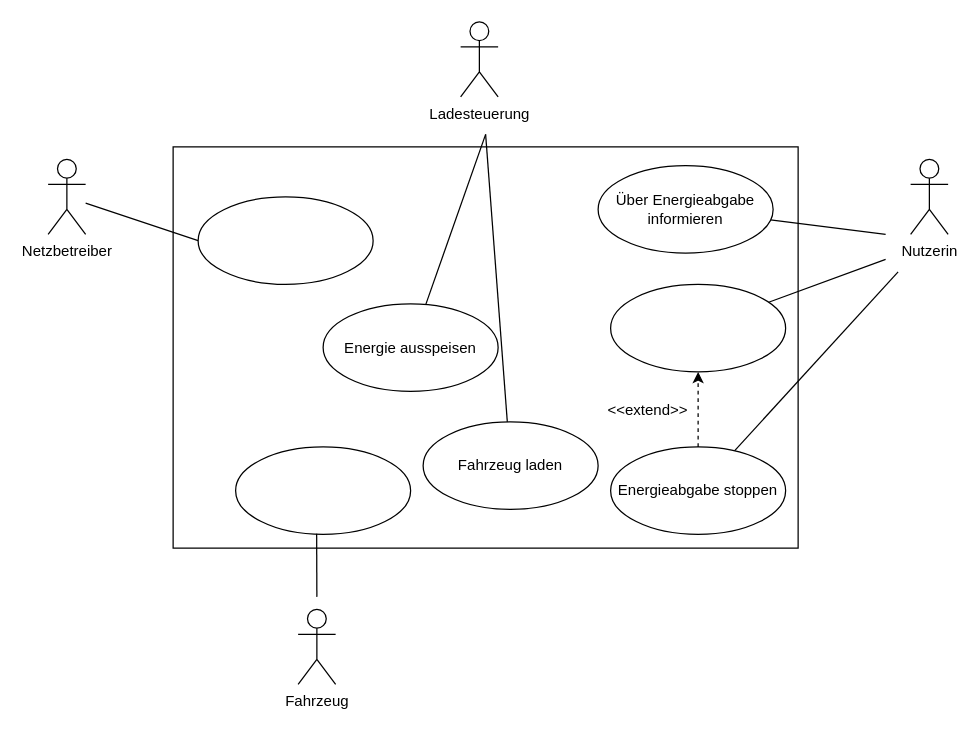
This 979x733 diagram has some shape labels left out. Each missing label, with the centre of its shape:
"Energie anfordern" goes at point (285, 240).
"Energieabgabe blockieren" goes at point (697, 327).
"Ladevorgänge überwachen" goes at point (322, 490).
